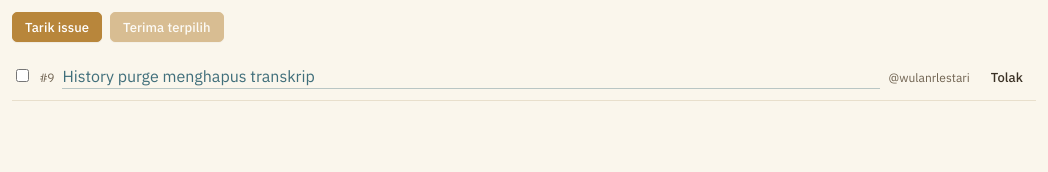
Test case: SPEC-471 · panel issue GitHub › tombol Tarik issue memanggil endpoint & melaporkan PR yang dibuang
The image size is (1048, 172).
Expected: the link "History purge menghapus transkrip" is shown, left=62, top=64, right=880, bottom=88
Click the button "Tarik issue": x=57, y=27 left=12, top=12, right=102, bottom=42
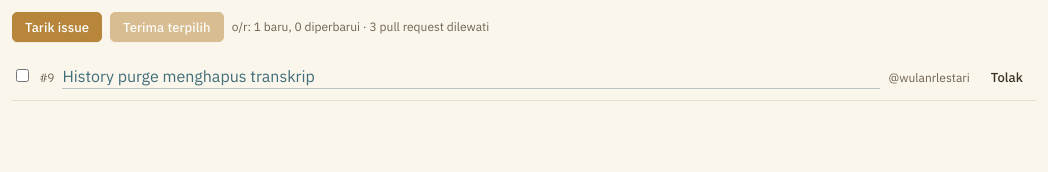
Result: the text "o/r: 1 baru, 0 diperbarui · 3 pull request dilewati" is shown at left=232, top=18, right=489, bottom=36
